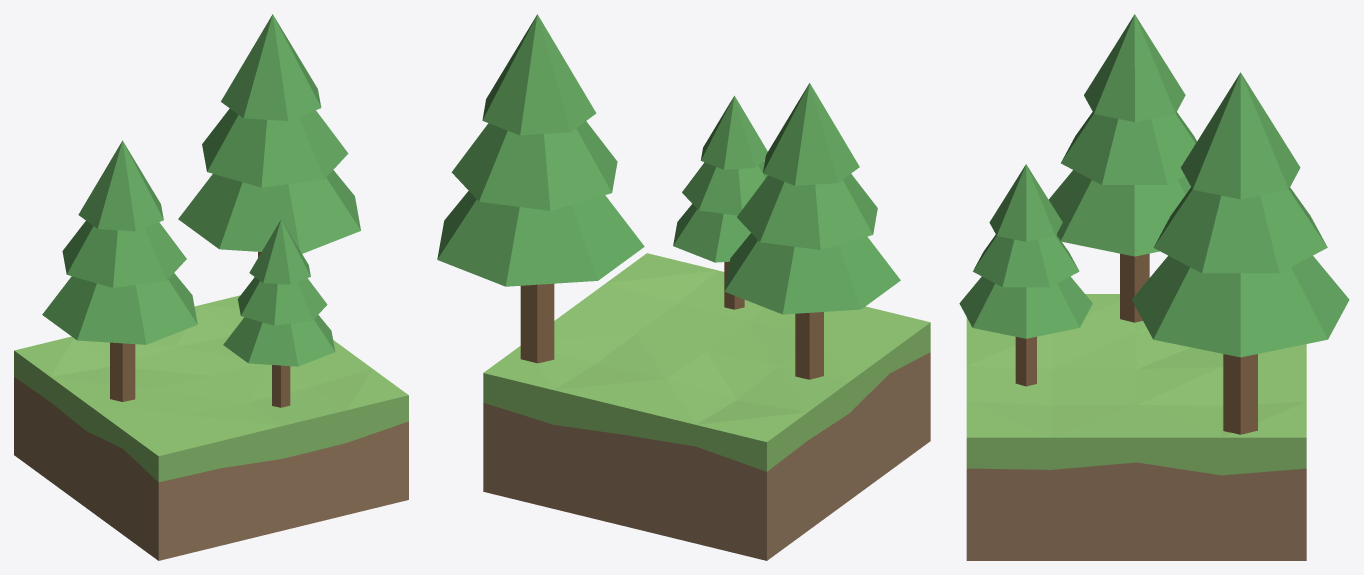
File: GrassTile_Tree3.fbx
3 views of the same model, side by side, from view 1: azimuth 30°, elevation 25°; view 2: azimuth 150°, elevation 25°; view 3: azimuth 270°, elevation 25° (orthographic). The views are drawn at different scales.
Parts seen in each view (by area): view 1: GrassTile_Tree3; view 2: GrassTile_Tree3; view 3: GrassTile_Tree3.
Boxes of the visible parts, box(x1,y1,x2,y2) form: GrassTile_Tree3: box(14, 14, 408, 560); GrassTile_Tree3: box(437, 14, 930, 560); GrassTile_Tree3: box(959, 14, 1349, 560).
Bounding box in the file's own units: 1.36 × 1.55 × 1.15.
